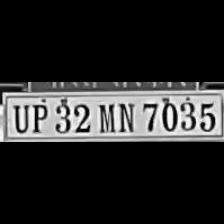0: (158, 99, 178, 131)
2: (72, 100, 92, 132)
3: (50, 99, 70, 133), (178, 98, 196, 132)
5: (196, 98, 216, 132)
7: (138, 100, 158, 132)
M: (95, 100, 115, 132)
N: (114, 100, 134, 132)
P: (27, 100, 47, 134)
U: (9, 100, 29, 132)
